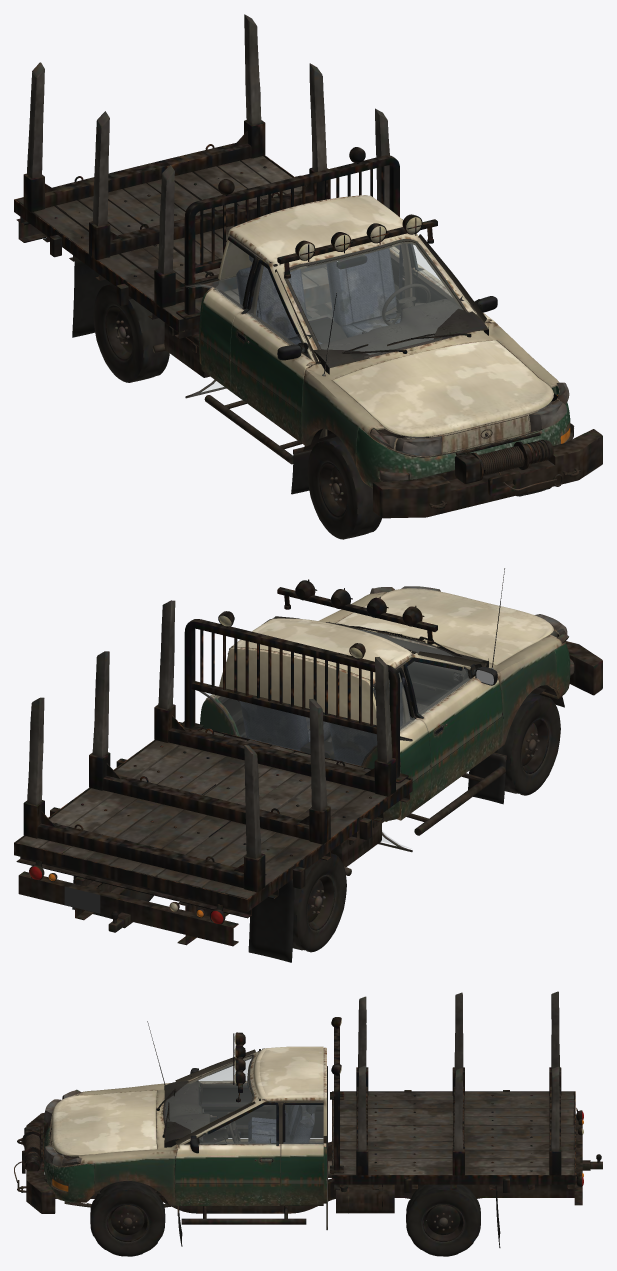
Rendered from truck.glb.
The picture shows the model from 3 angles, top to bottom: view 1: azimuth 30°, elevation 25°; view 2: azimuth 150°, elevation 25°; view 3: azimuth 270°, elevation 25°; orthographic projection. The views are drawn at different scales.
Parts seen in each view (by area): view 1: bed, body, interior, hood, glass_windshield, bumper_front, door_r, wheel_fr, wheel_rr, glass, glass_door_r, door_l (+3 smaller); view 2: bed, body, interior, hood, door_r, glass, wheel_fr, wheel_rr, glass_door_r, bumper_front, plate_rear; view 3: bed, body, door_l, interior, hood, wheel_fl, wheel_rl, glass_windshield, bumper_front, door_r, glass_door_l, glass (+1 smaller).
Part boxes in pixels (x1,y1,x2,y2): bed: (14, 14, 399, 338); body: (18, 195, 574, 494); interior: (218, 234, 488, 438); hood: (332, 340, 553, 436); glass_windshield: (288, 242, 462, 354); bumper_front: (373, 429, 602, 518); door_r: (230, 260, 318, 442); wheel_fr: (307, 436, 381, 539); wheel_rr: (93, 283, 169, 382); glass: (191, 241, 398, 395); glass_door_r: (246, 265, 300, 344); door_l: (409, 243, 497, 323); bed: (14, 600, 412, 918); body: (18, 568, 574, 962); interior: (218, 616, 488, 821); hood: (336, 588, 553, 665); door_r: (403, 657, 502, 798); glass: (206, 673, 415, 847); wheel_fr: (494, 693, 560, 795); wheel_rr: (292, 853, 346, 952); glass_door_r: (407, 661, 469, 715); bumper_front: (565, 641, 602, 695); plate_rear: (64, 886, 100, 913); bed: (330, 991, 575, 1192); body: (44, 1021, 602, 1247); door_l: (175, 1102, 280, 1205); interior: (164, 1049, 323, 1203); hood: (52, 1090, 157, 1156); wheel_fl: (90, 1181, 165, 1256); wheel_rl: (406, 1184, 480, 1256); glass_windshield: (165, 1056, 251, 1132); bumper_front: (14, 1113, 58, 1213); door_r: (190, 1057, 276, 1138); glass_door_l: (199, 1105, 275, 1144); glass: (283, 1105, 323, 1144).
Bounding box in the file's own units: 2.11 × 2.09 × 5.8.
12 materials, 9 textured.
